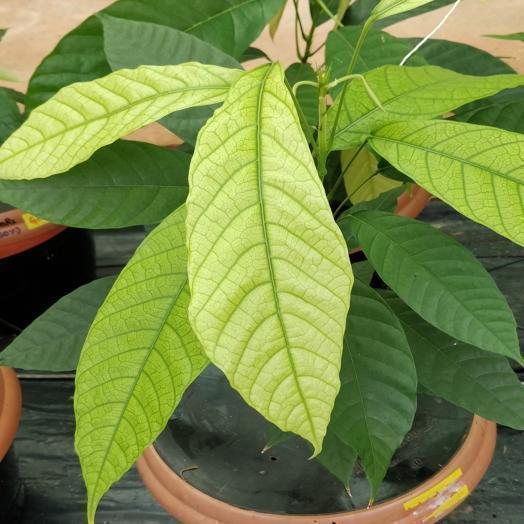Iron: (187, 65, 353, 453), (75, 207, 207, 523), (0, 62, 241, 178), (369, 120, 523, 245), (328, 65, 523, 149)
